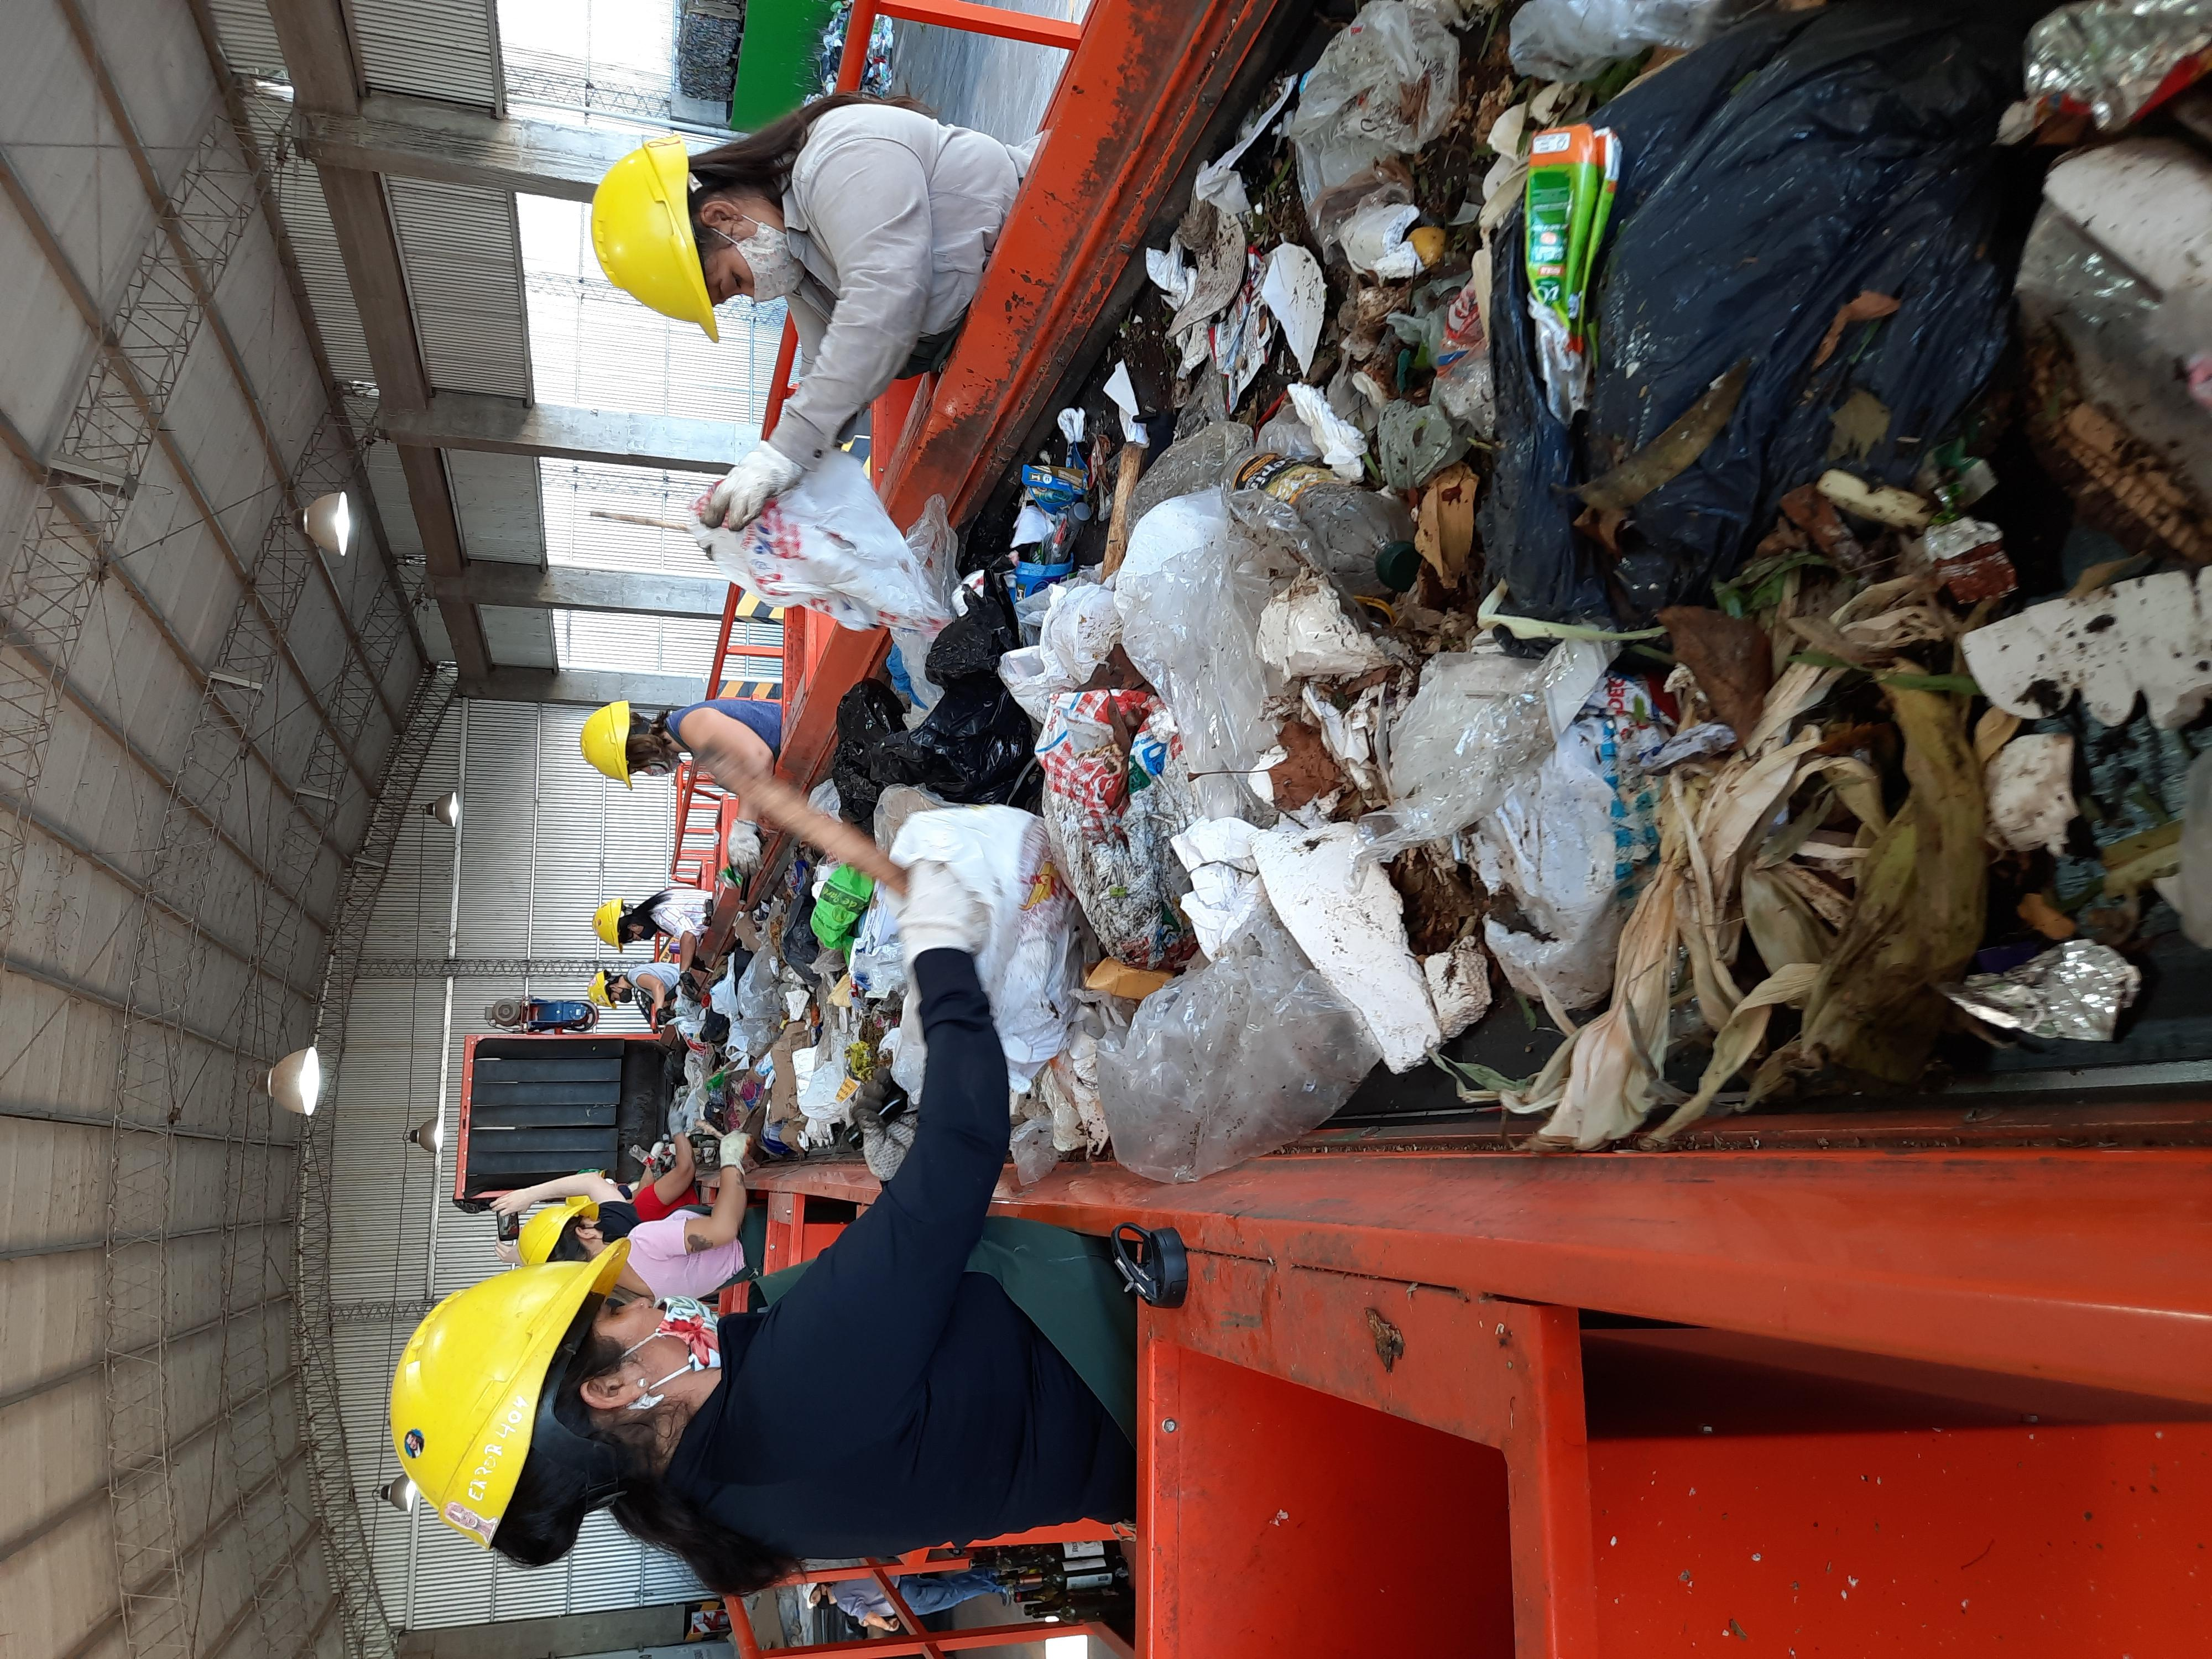bottle: (1402, 889, 1634, 1100)
